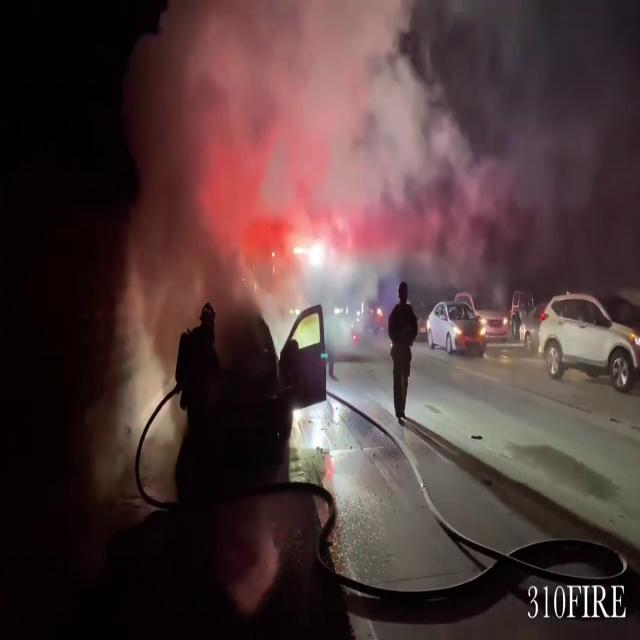Smoke: (108, 1, 628, 298)
